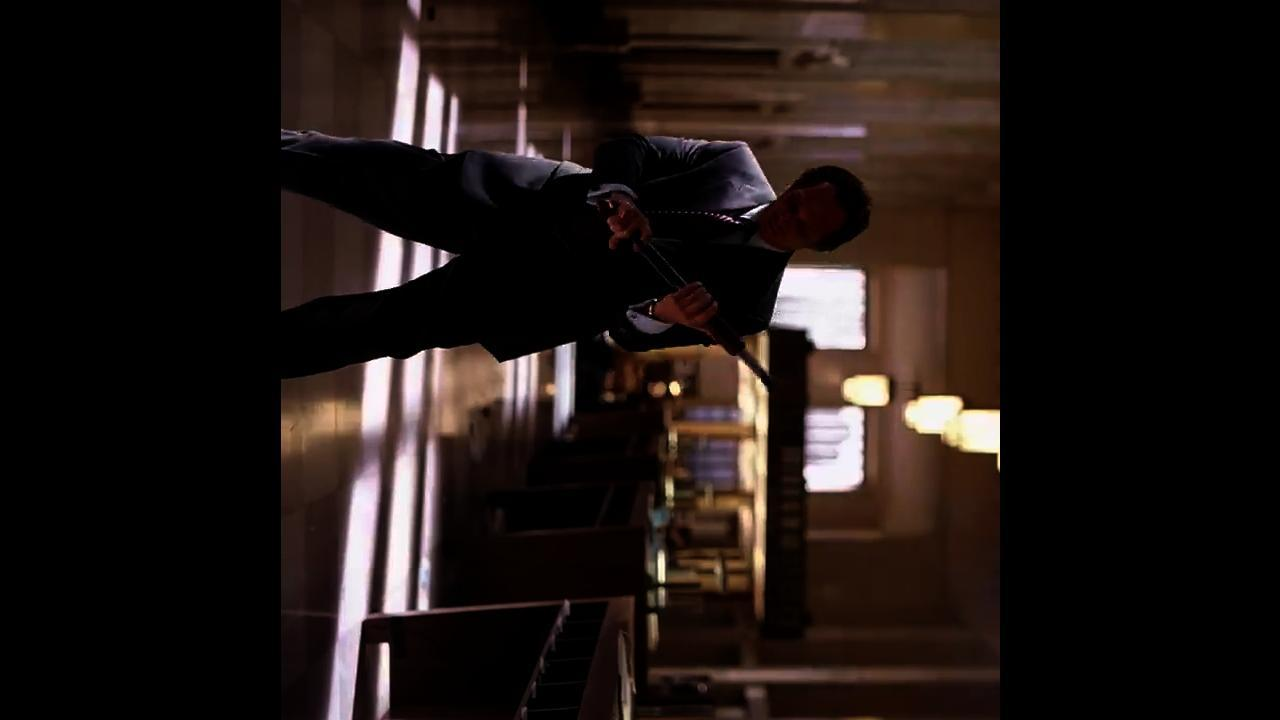gun: (562, 146, 789, 392)
